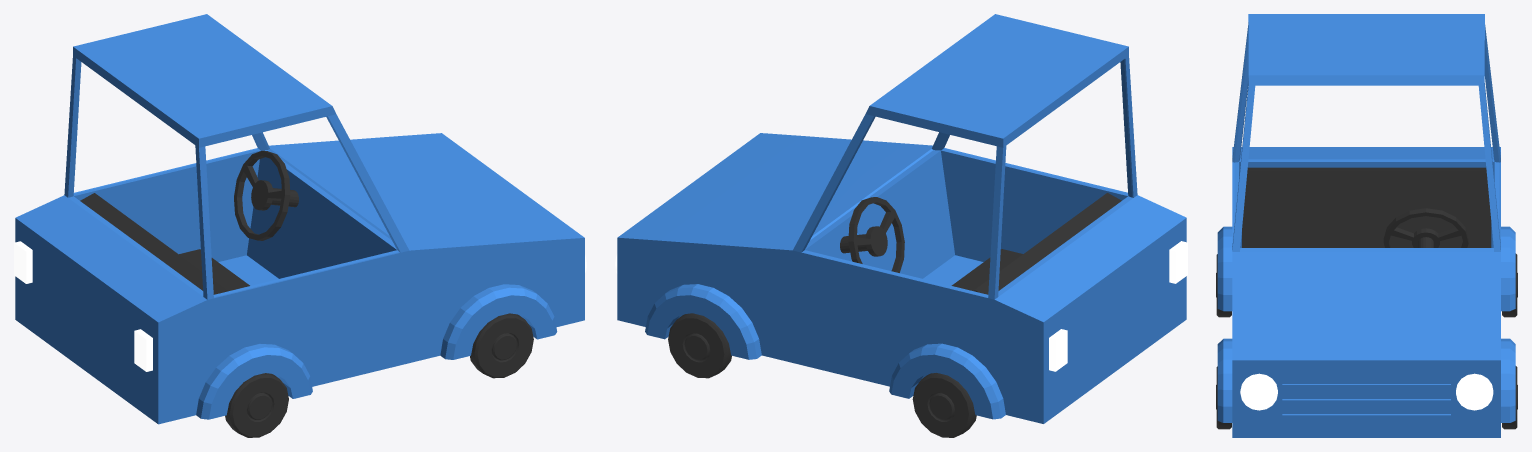
File: coche.gltf
3 renders of one model, left to right at view 1: azimuth 30°, elevation 25°; view 2: azimuth 150°, elevation 25°; view 3: azimuth 270°, elevation 25°, orthographic. The views are drawn at different scales.
Parts seen in each view (by area): view 1: Coche, ruedas, asiento, volante, lucesatras; view 2: Coche, ruedas, asiento, volante, lucesatras; view 3: Coche, asiento, luces, volante, ruedas.
Part boxes in pixels (x1,y1,x2,y2): Coche: (15,14,584,424); ruedas: (225,313,533,437); asiento: (80,193,249,294); volante: (234,150,298,240); lucesatras: (14,241,152,371); Coche: (617,14,1186,423); ruedas: (668,313,976,437); asiento: (951,193,1121,294); volante: (840,197,904,272); lucesatras: (1049,241,1187,371); Coche: (1217,14,1515,437); asiento: (1242,167,1491,247); luces: (1240,373,1493,410); volante: (1383,208,1468,247); ruedas: (1216,253,1517,429).
Size of the model in its own units: 3.55 by 2.3 by 2.25.
